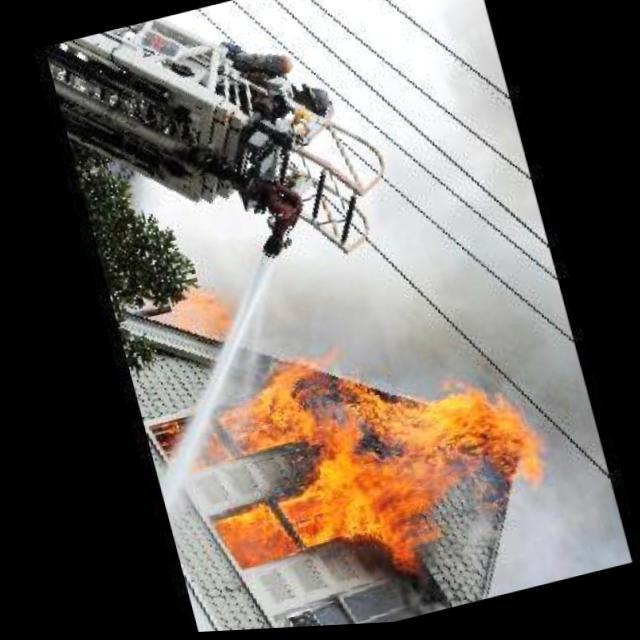fire: (175, 318, 569, 620)
